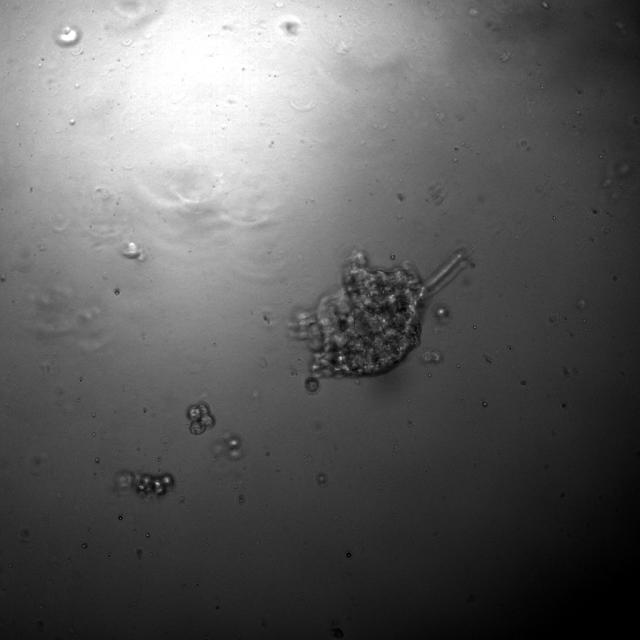organoid: (291, 250, 467, 379), (113, 470, 174, 497), (211, 431, 244, 461), (186, 403, 214, 435), (54, 23, 81, 47), (121, 242, 146, 261), (432, 304, 451, 324), (418, 349, 443, 364), (304, 376, 319, 395), (114, 289, 120, 296)
